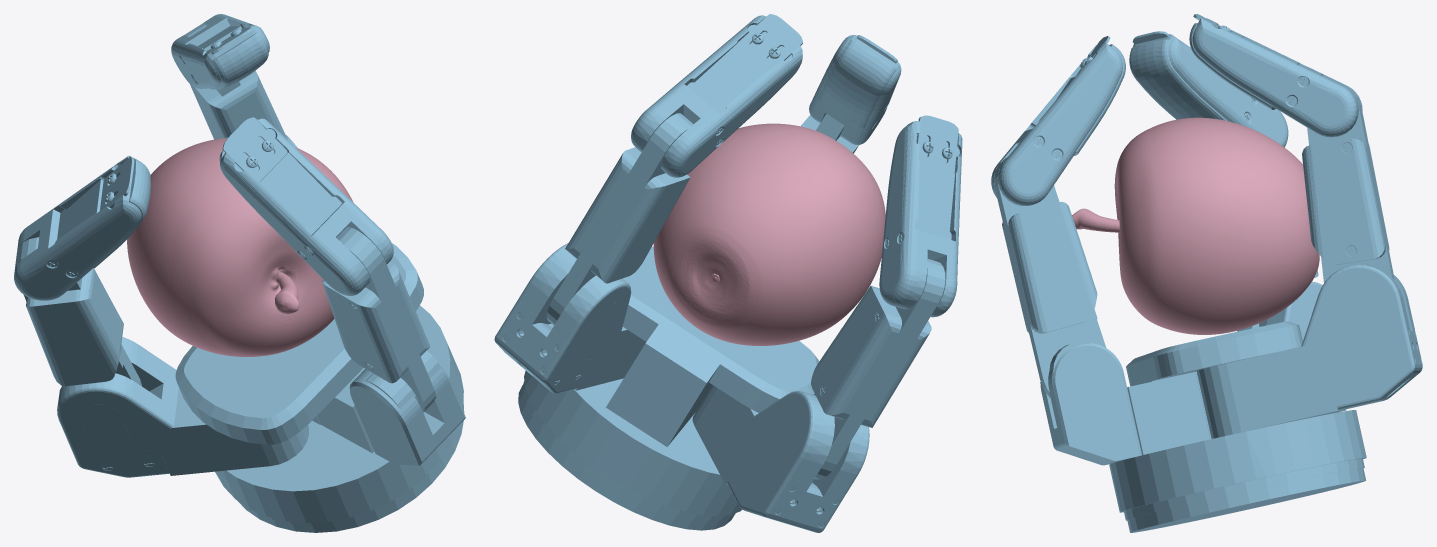
The picture shows the model from 3 angles, left to right: view 1: azimuth 30°, elevation 25°; view 2: azimuth 150°, elevation 25°; view 3: azimuth 270°, elevation 25°; orthographic projection. The views are drawn at different scales.
Parts seen in each view (by area): view 1: world, apple.stl; view 2: world, apple.stl; view 3: world, apple.stl.
Boxes of the visible parts, bbox=[...] form: world: bbox=[14, 14, 465, 532]; apple.stl: bbox=[127, 137, 353, 356]; world: bbox=[494, 14, 962, 532]; apple.stl: bbox=[653, 123, 885, 345]; world: bbox=[991, 14, 1422, 532]; apple.stl: bbox=[1072, 117, 1319, 334].
Size of the model in its own units: 0.1663 by 0.1893 by 0.1516.
